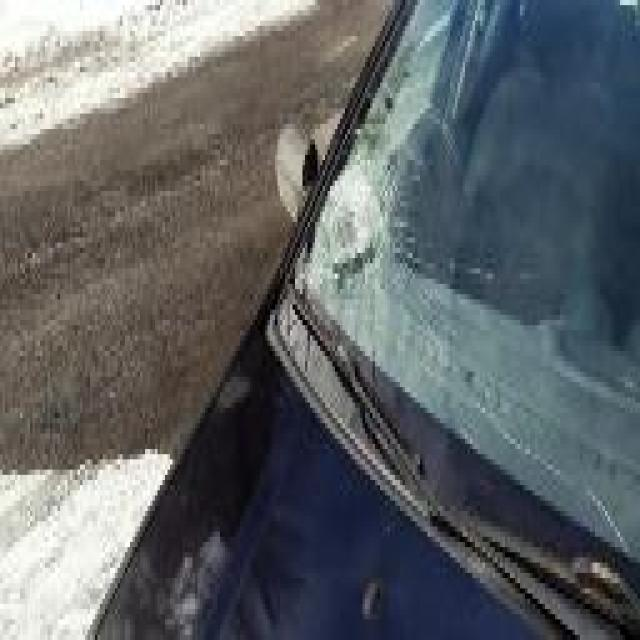Windshield: (318, 83, 522, 377)
